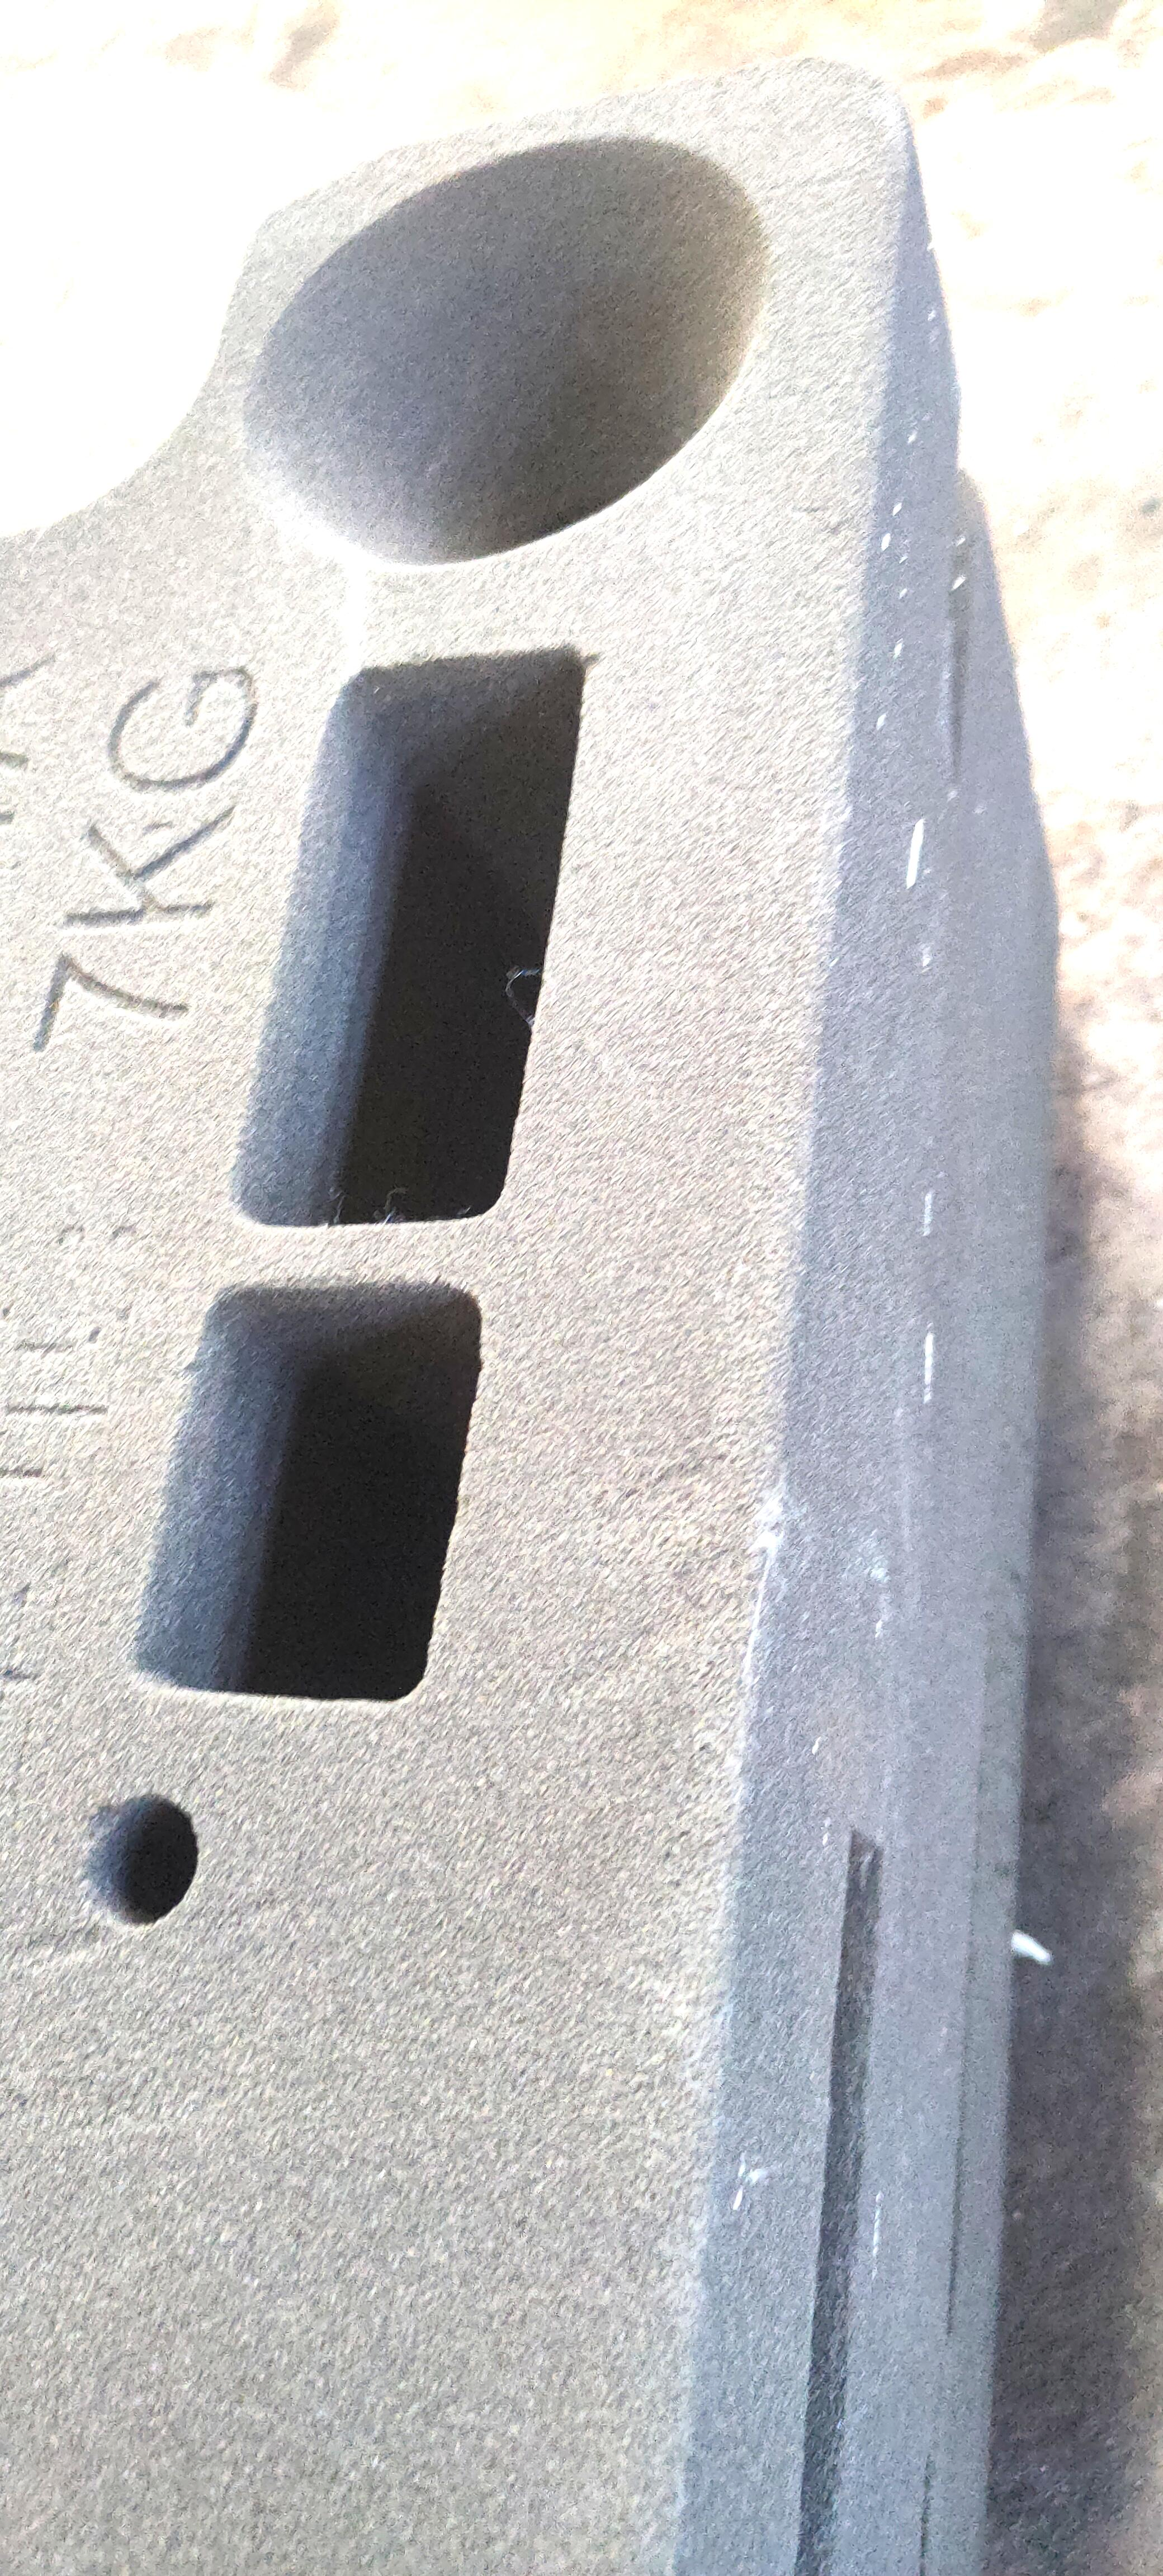pouring hole: (237, 131, 765, 563)
